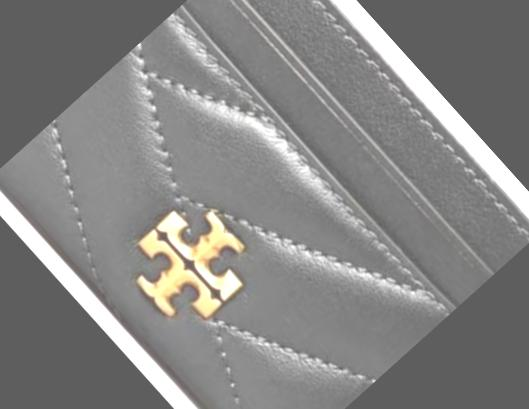TORY-BURCH: (116, 191, 262, 337)
